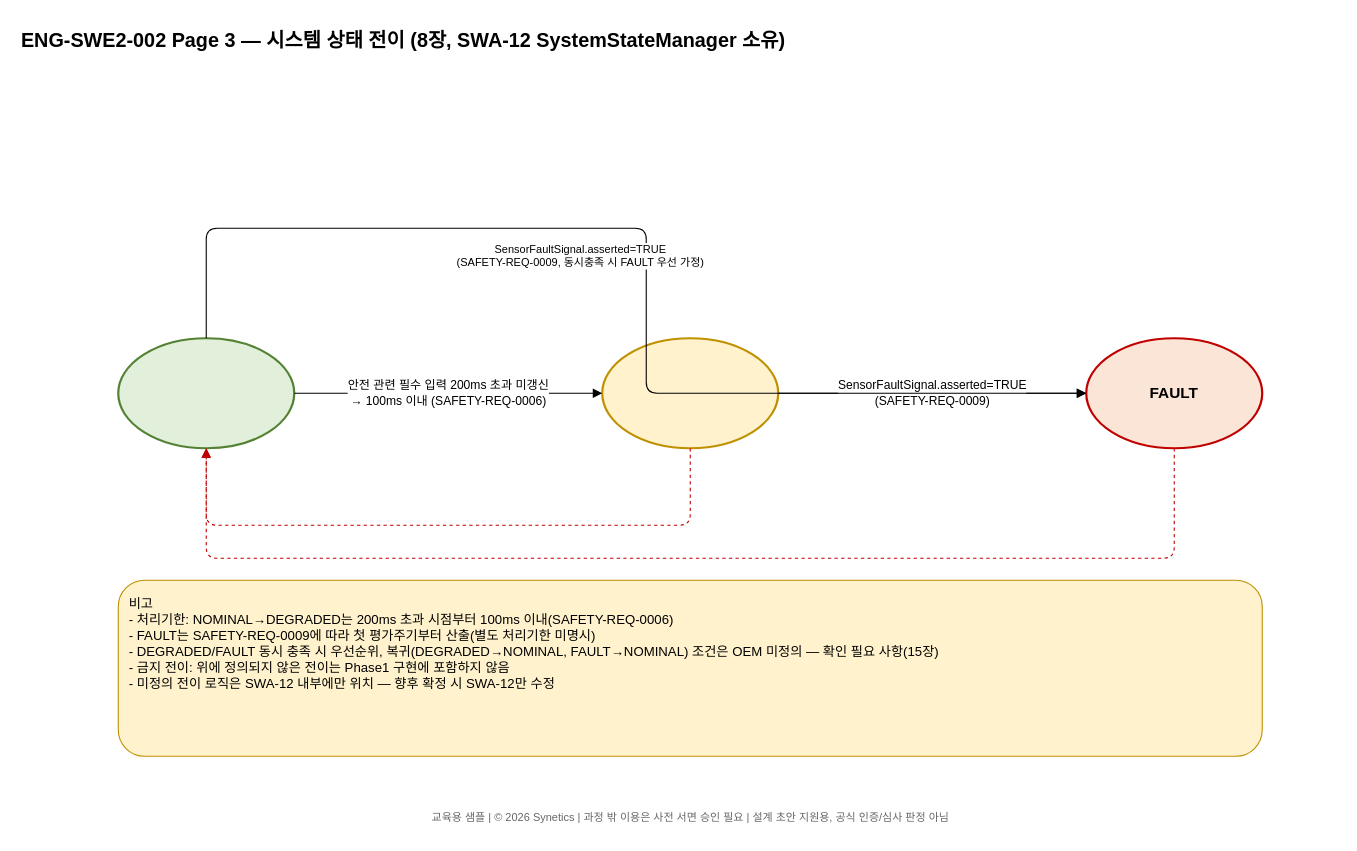
Image size: 1357x851. Some labels were removed from this diagram. Each missing label, with the box of its shape:
DEGRADED: (601, 337, 779, 449)
NOMINAL: (117, 337, 295, 449)
